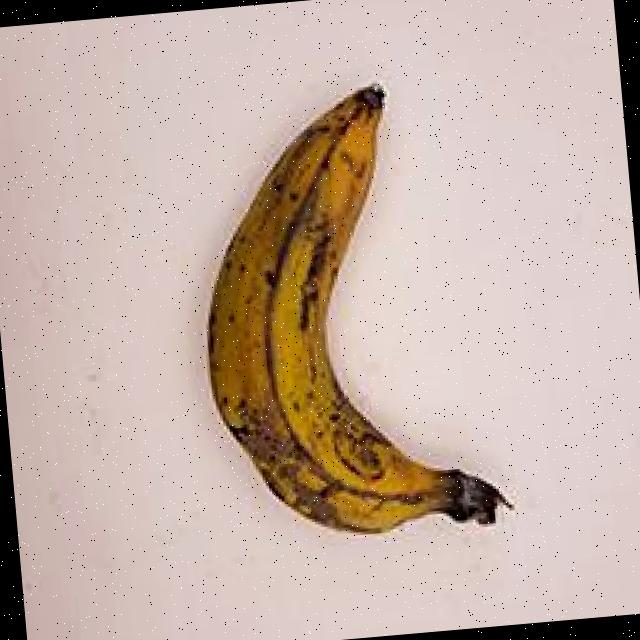Overripe: (130, 41, 552, 586)
